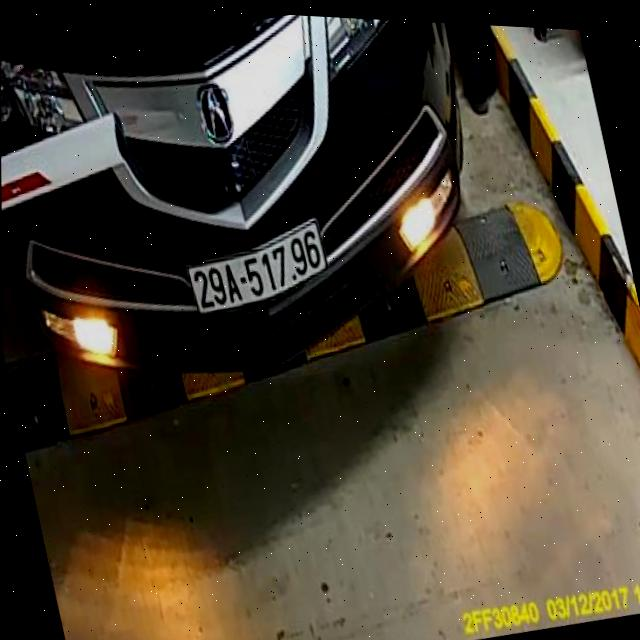car: (0, 0, 525, 444)
plate: (177, 212, 336, 323)
